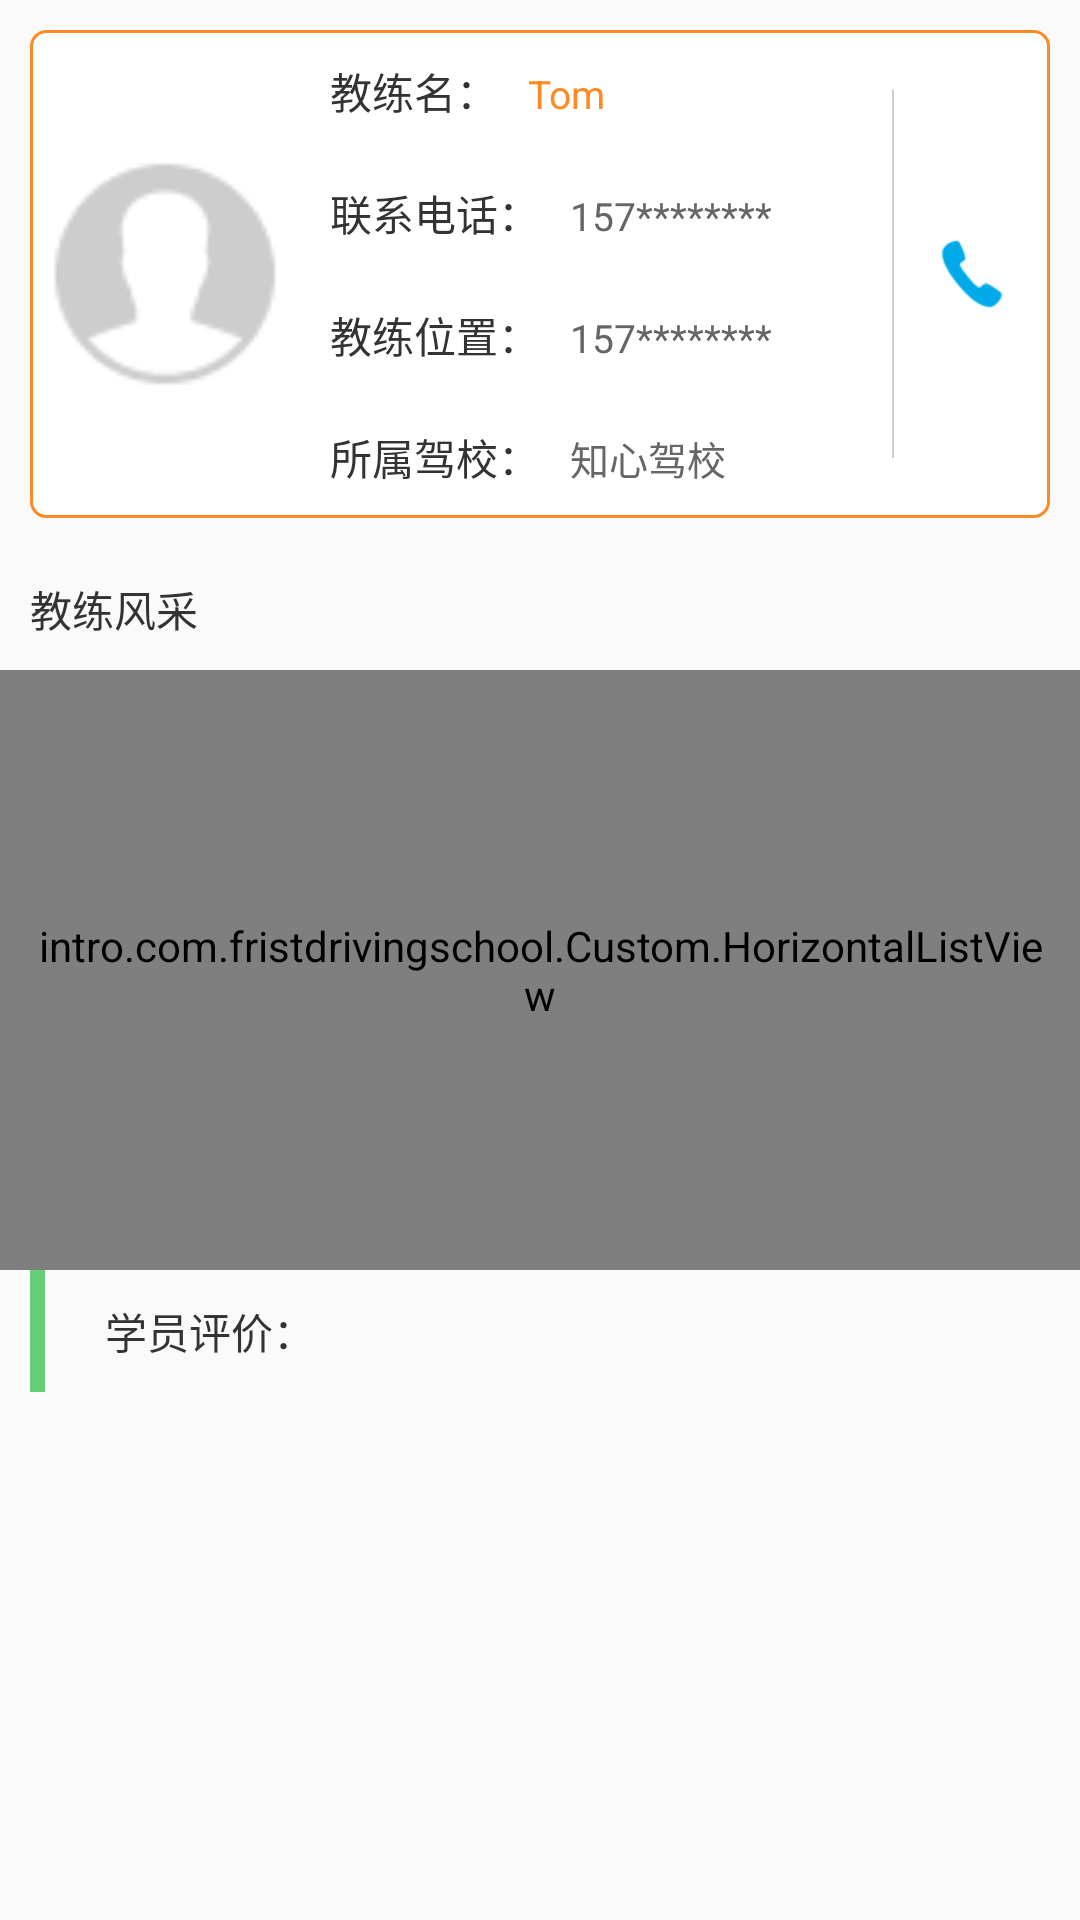

Icon click points for this 1080×1920 phone screenshot, format (x=x, y=y):
head: (x=165, y=274)
phone: (x=972, y=274)
